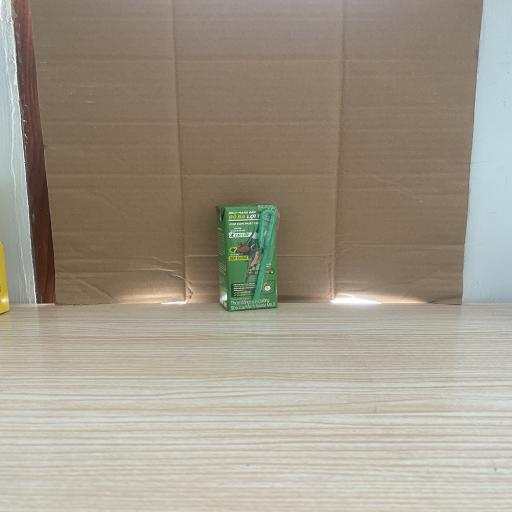milo: (215, 204, 279, 312)
